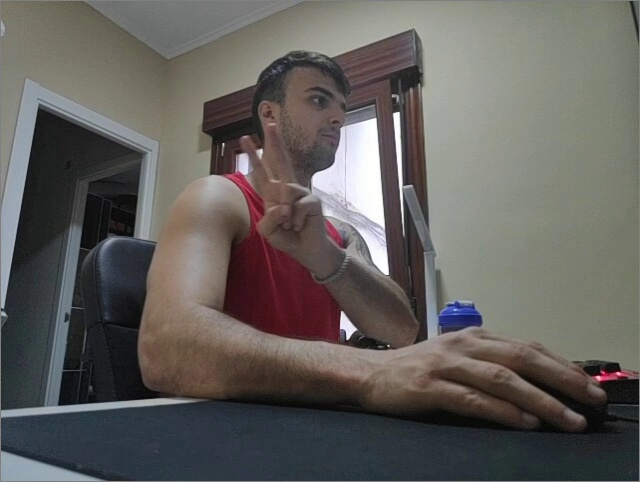Peace: (231, 121, 327, 252)
